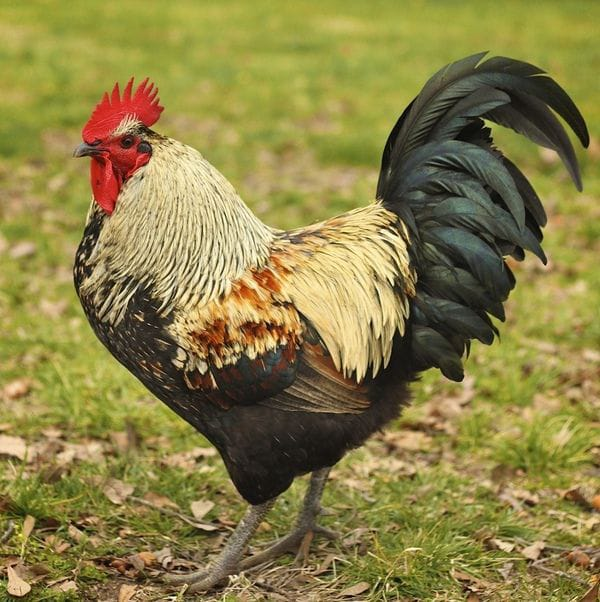Healthy: (65, 50, 574, 571)
